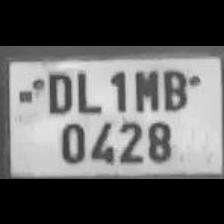0: (54, 117, 86, 163)
1: (104, 65, 130, 113)
2: (112, 115, 144, 163)
4: (86, 115, 116, 163)
8: (144, 116, 174, 164)
B: (158, 65, 188, 111)
D: (43, 67, 74, 113)
L: (73, 65, 103, 113)
M: (130, 65, 160, 113)
